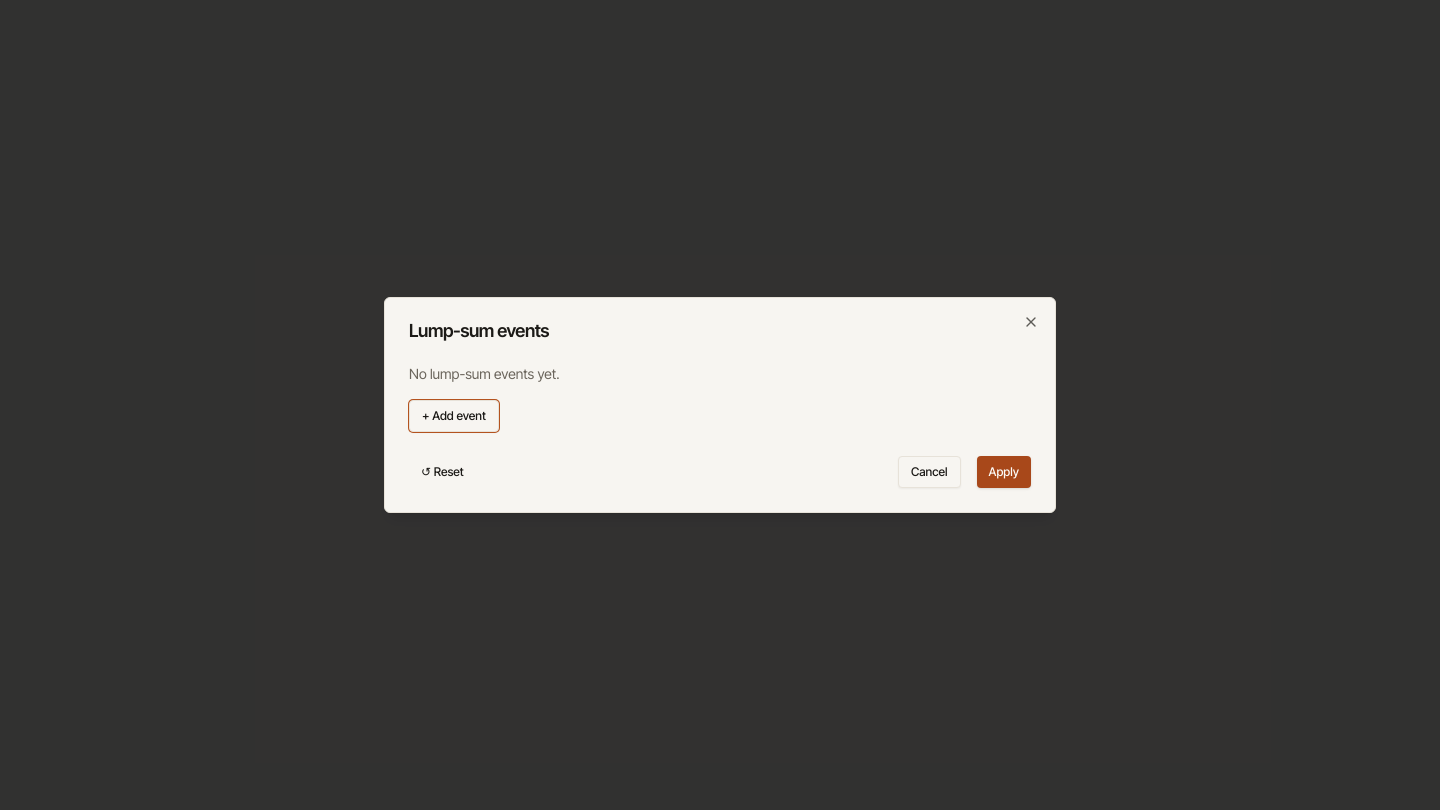
it: LumpSumsPopover › Remove deletes the row
Click the button "+ Add event".
click(454, 416)  # box [409,400,499,432]
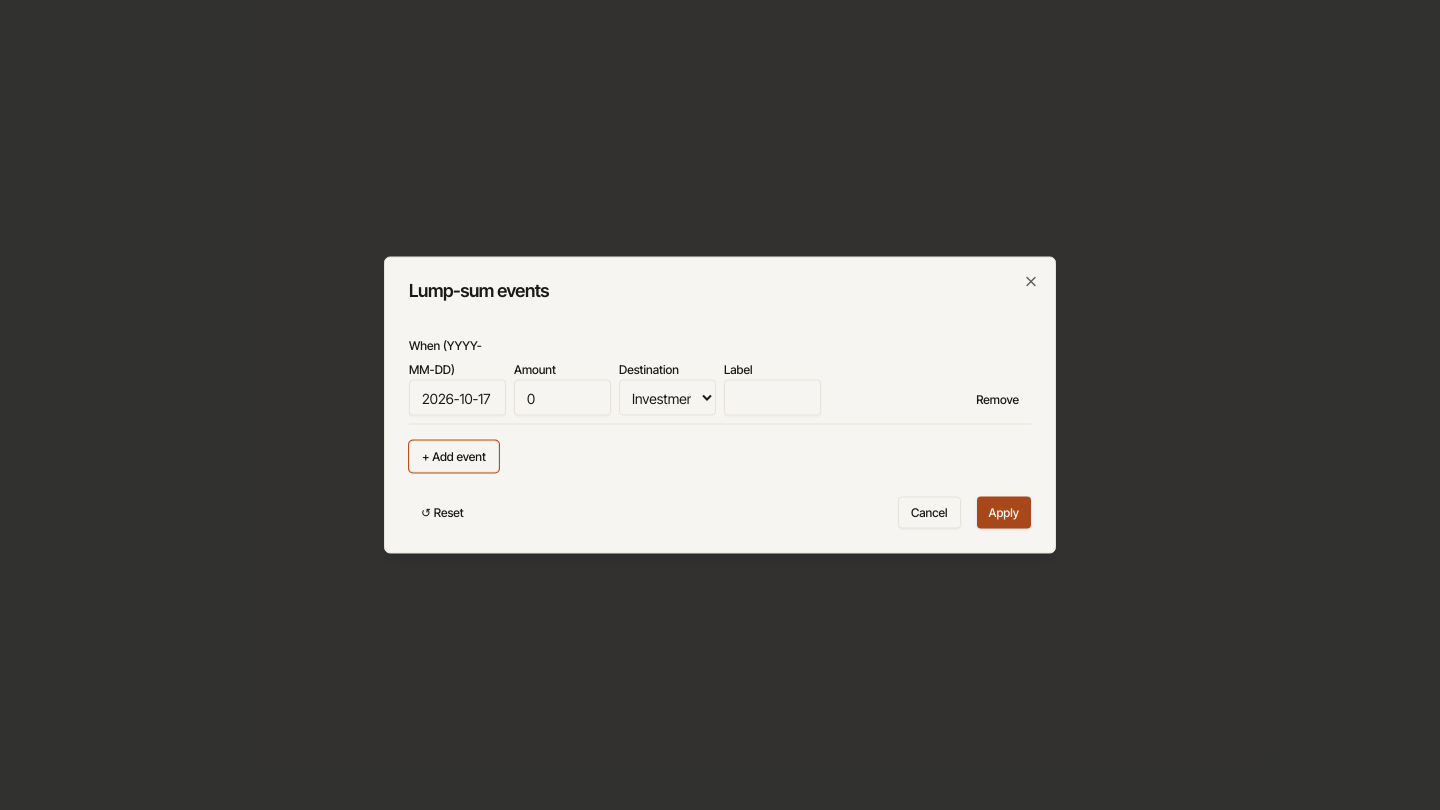
Click the button with aria-label "remove row 1".
click(998, 400)  # box [964,384,1031,416]
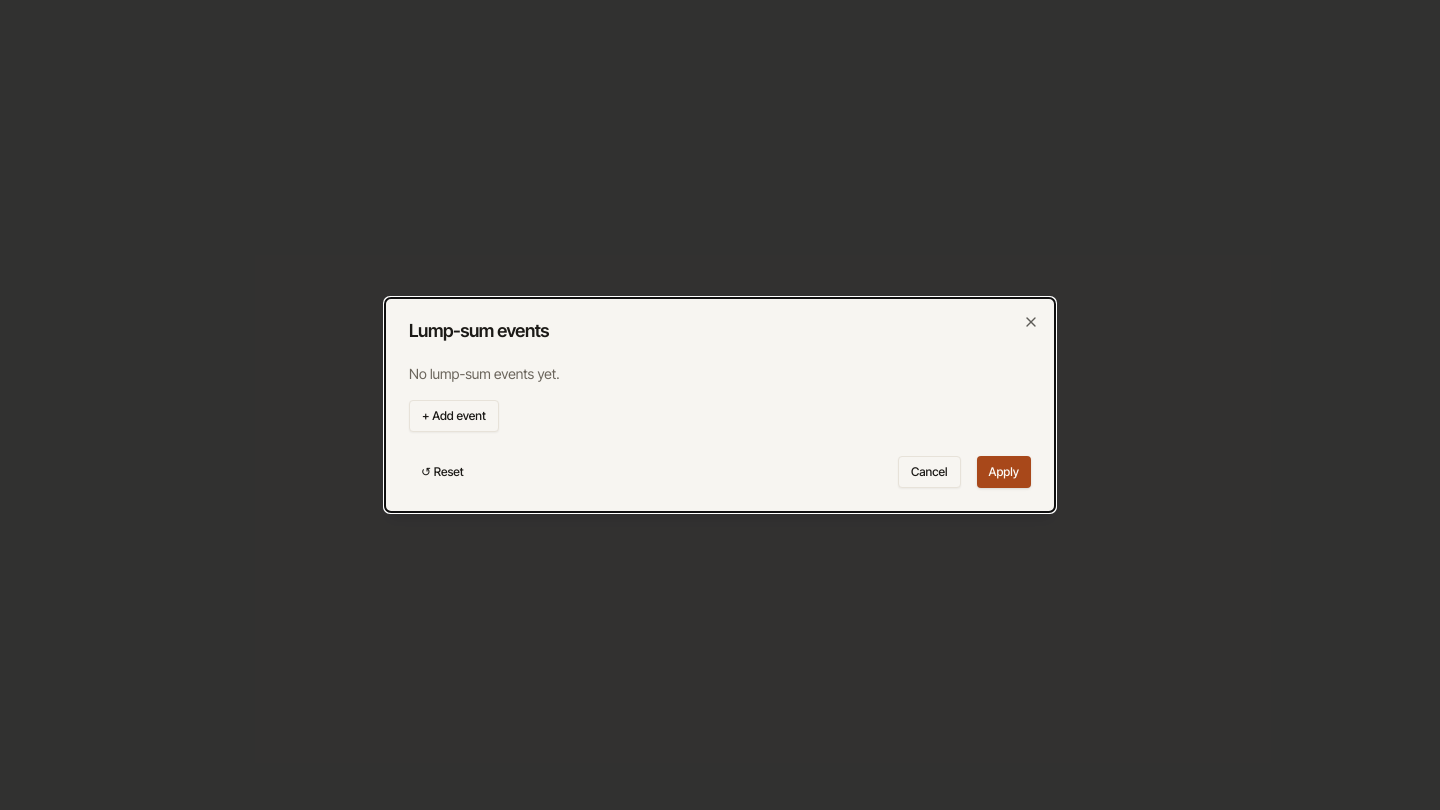
Check: the label labelled "When" is gone
